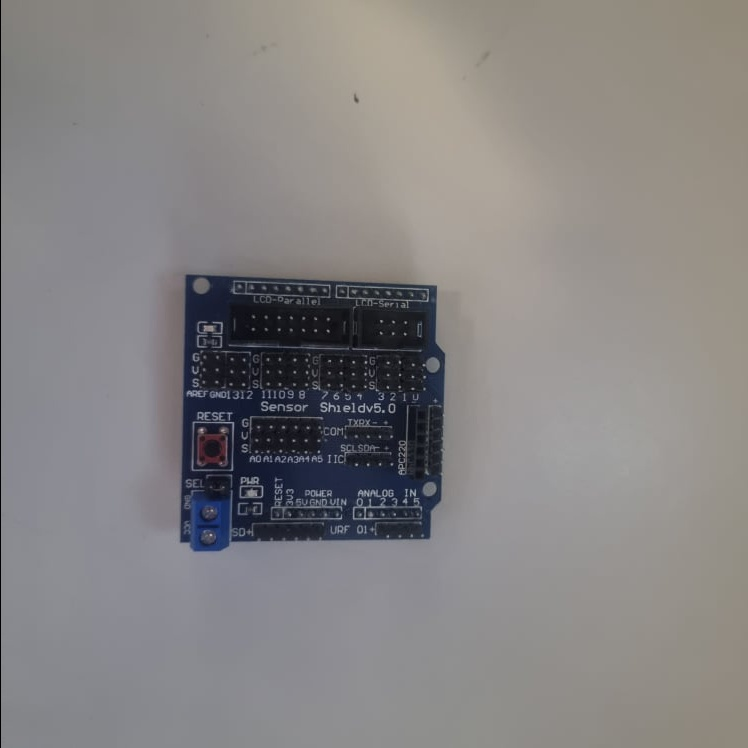5V EXPANSION: (176, 279, 443, 554)
